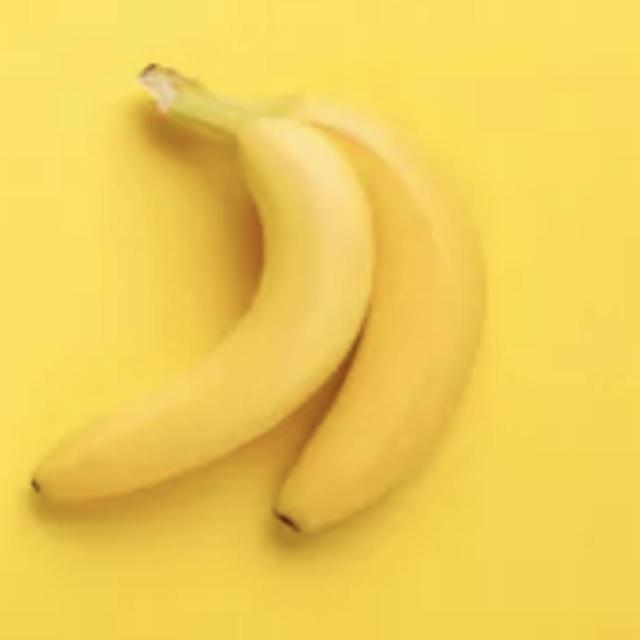banana: (0, 14, 344, 526), (253, 54, 551, 592)
